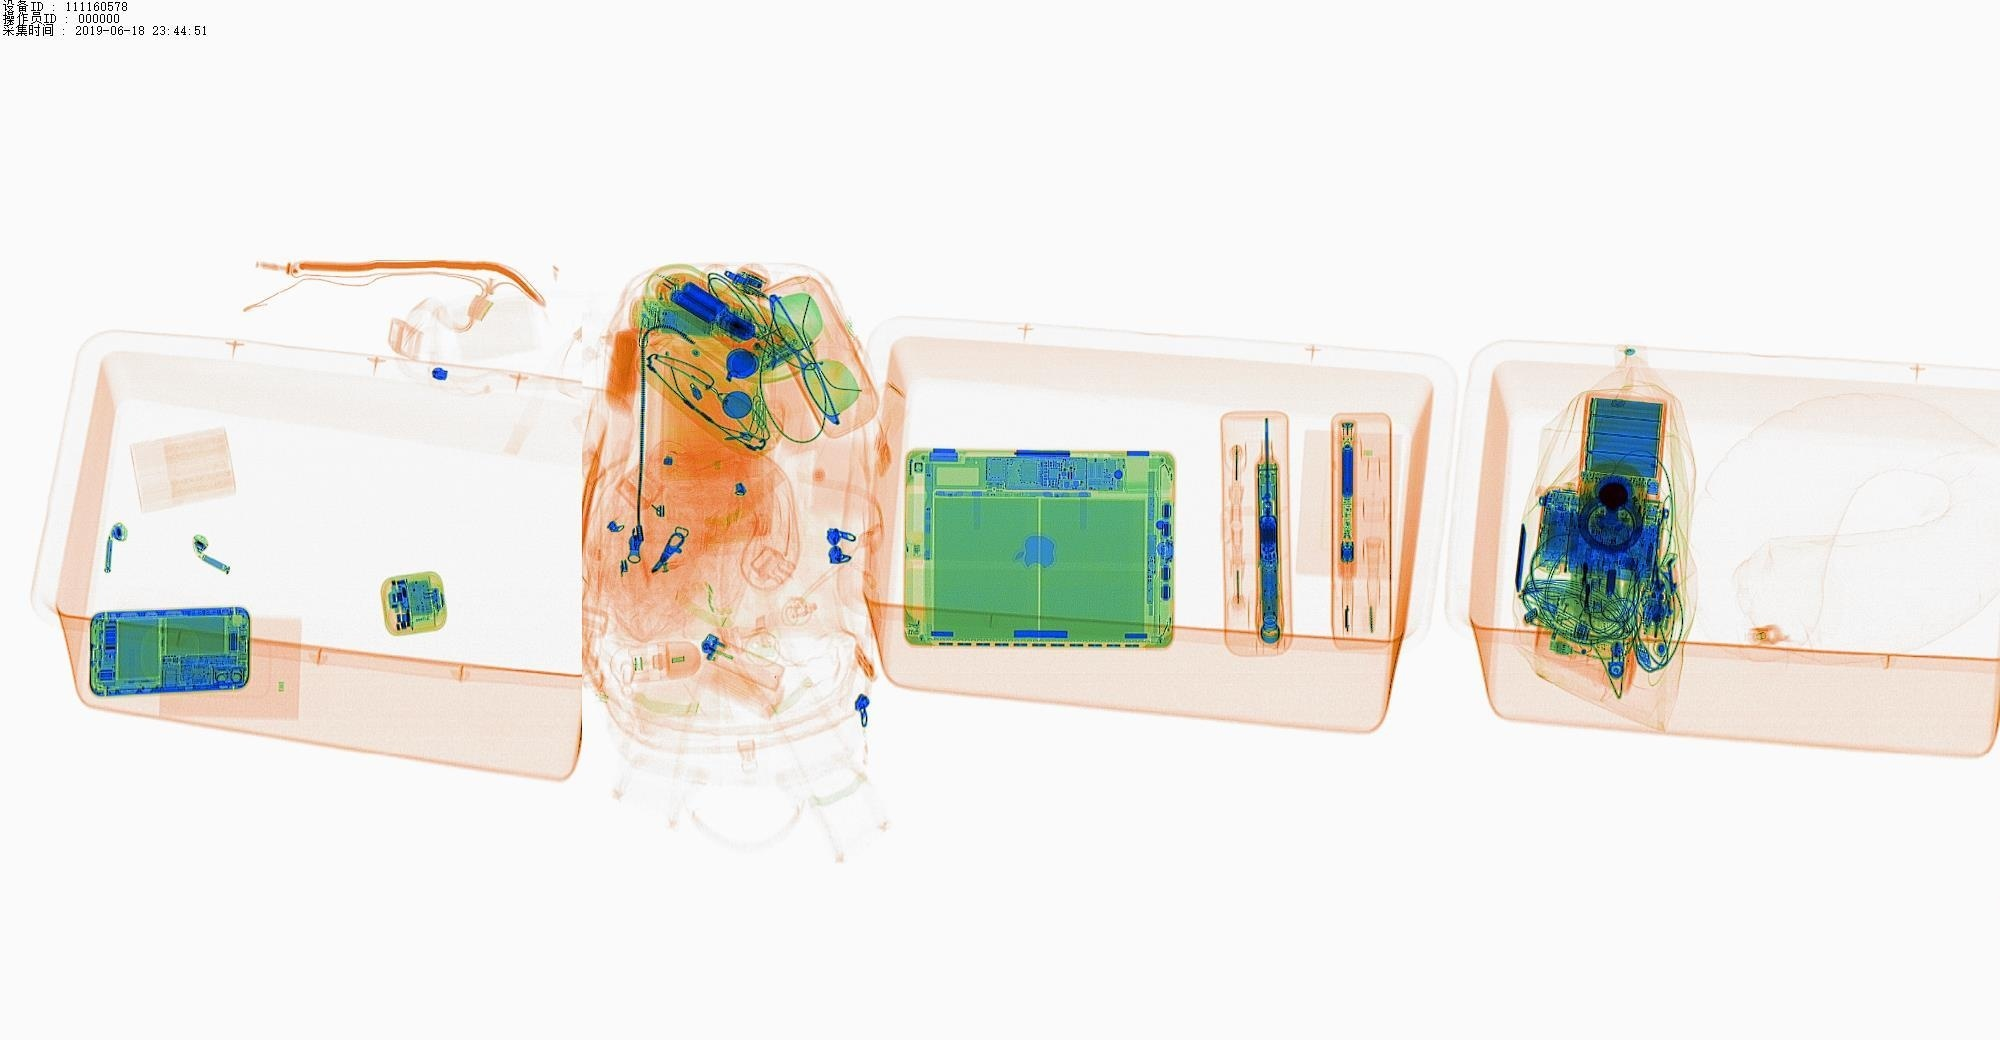NonmetallicFire: (679, 628, 829, 715)
